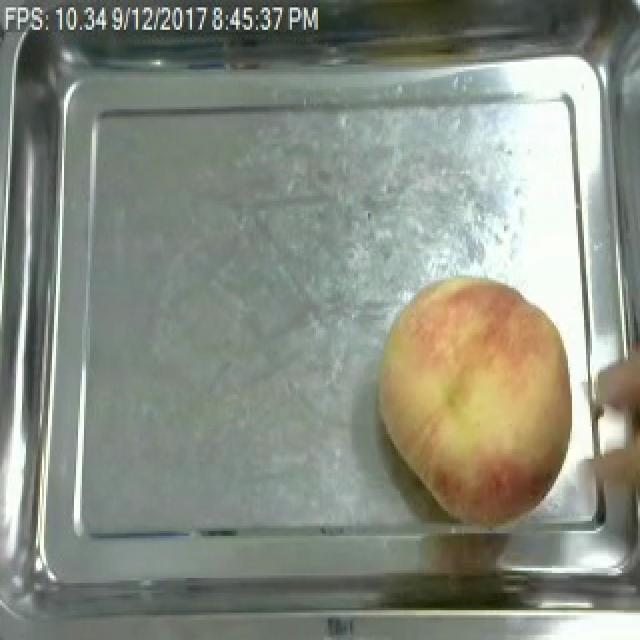Fruit: (364, 268, 586, 533)
